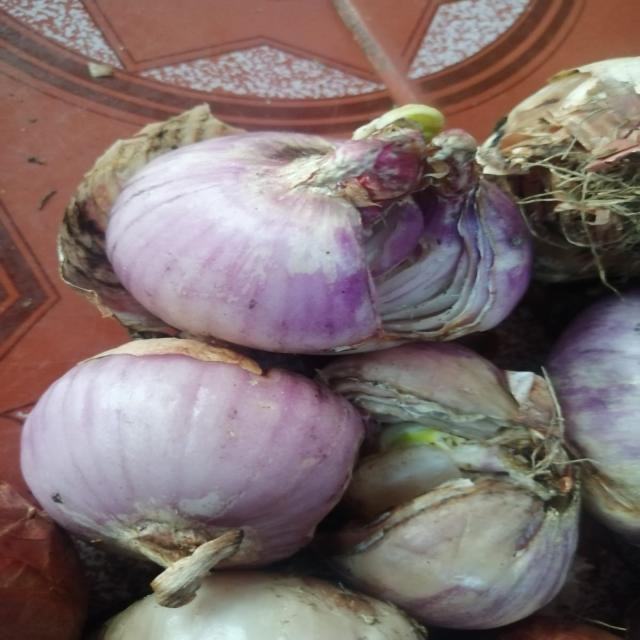rotten: (357, 202, 487, 334), (82, 346, 300, 420), (340, 453, 502, 540), (558, 70, 634, 128)
